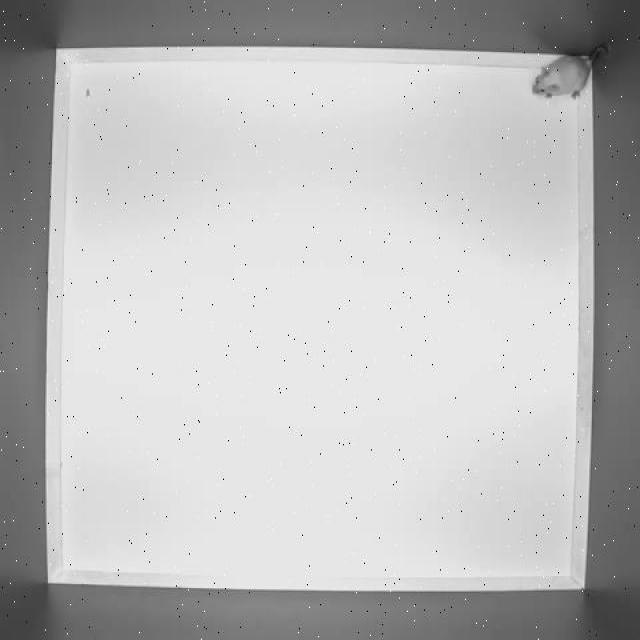rat: (531, 44, 616, 105)
